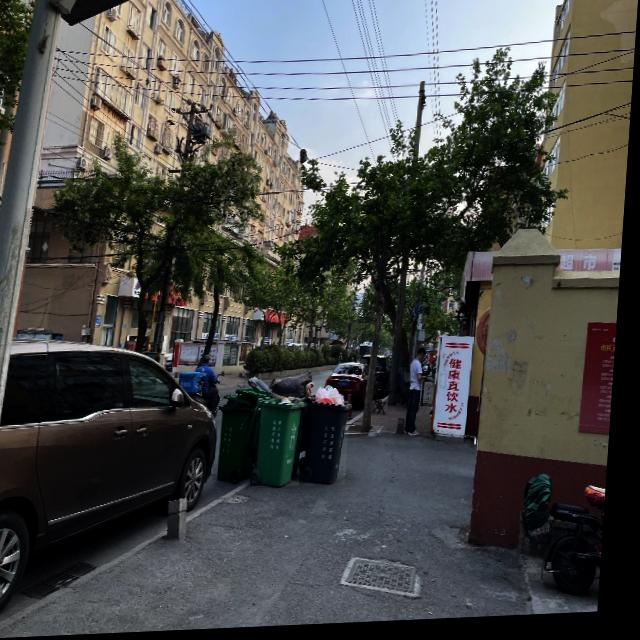overflow: (259, 396, 311, 490), (312, 388, 357, 489), (219, 394, 261, 482)
